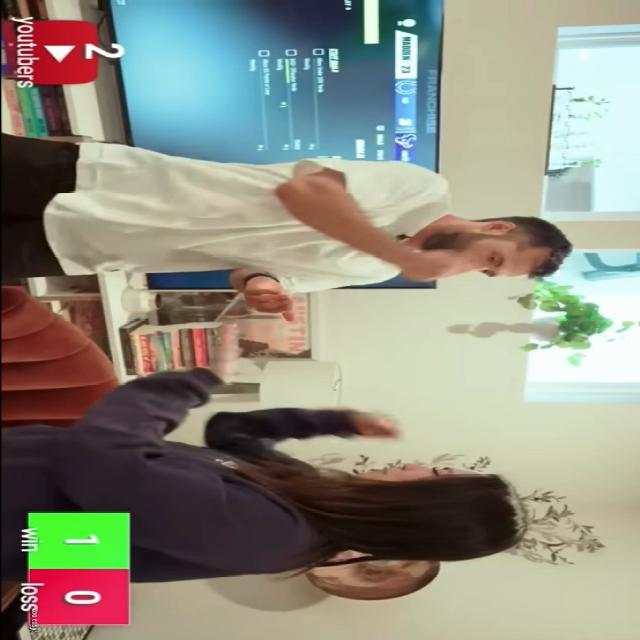Rock: (384, 250, 476, 282), (349, 412, 402, 439)
